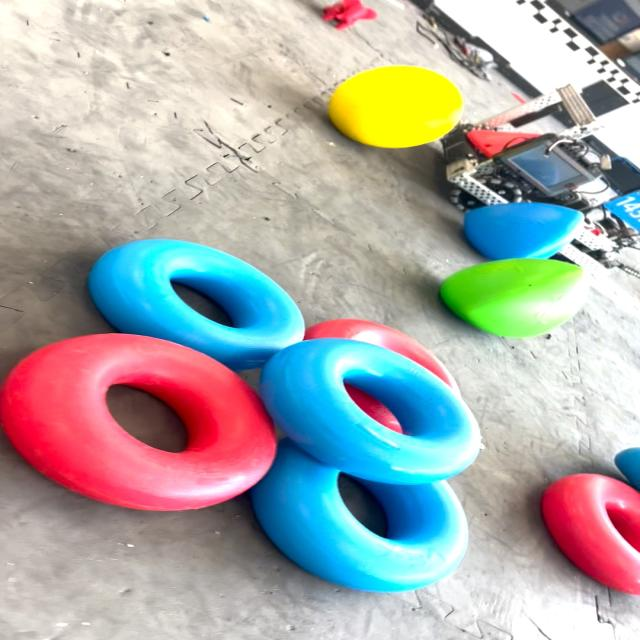Blue-Ring: (251, 440, 467, 592), (267, 338, 481, 486), (89, 239, 304, 370)
Red-Ring: (2, 334, 276, 511), (542, 474, 639, 595)
